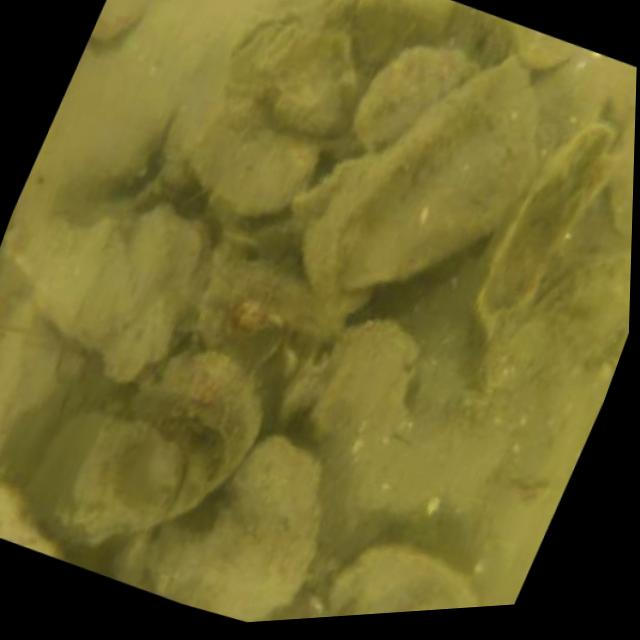Oyster-Closed: (290, 44, 535, 312), (344, 44, 481, 145)
Oyster-Indeterminate: (282, 312, 426, 561), (2, 206, 203, 384), (149, 437, 325, 618), (200, 252, 342, 421), (131, 347, 264, 515), (28, 408, 180, 543), (188, 101, 322, 210)
Oyster-Open: (475, 120, 622, 380)
